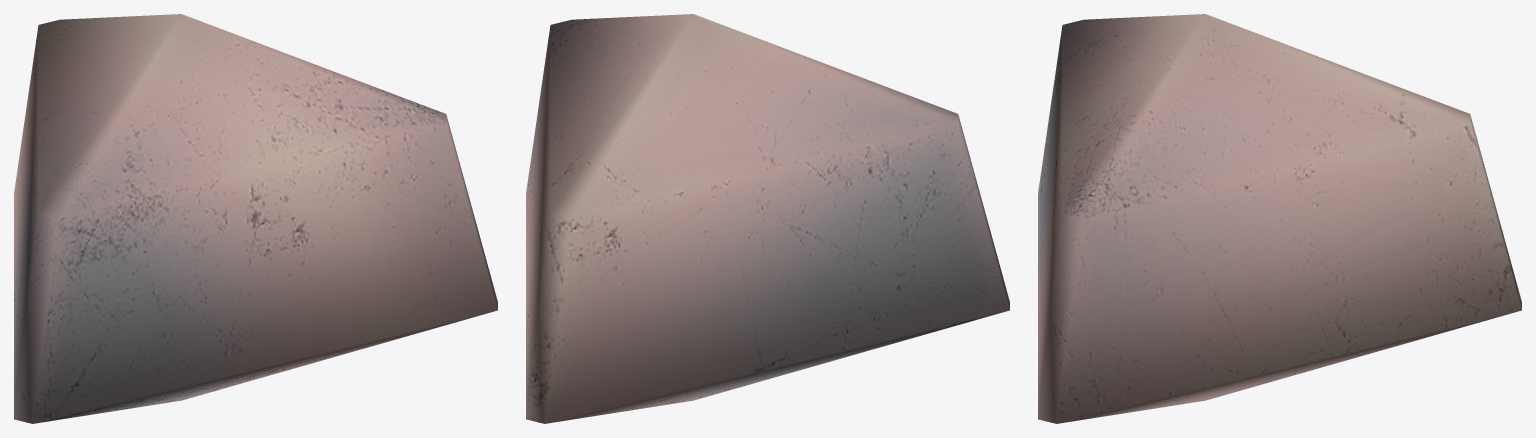
File: SM_RefinedMineral_4.fbx
3 views of the same model, side by side, from view 1: azimuth 30°, elevation 25°; view 2: azimuth 150°, elevation 25°; view 3: azimuth 270°, elevation 25° (orthographic).
Visible parts, largest first — view 1: SM_RefinedMineral_4; view 2: SM_RefinedMineral_4; view 3: SM_RefinedMineral_4.
Boxes of the visible parts, x1,y1,x2,y2 form: SM_RefinedMineral_4: [14, 14, 497, 423]; SM_RefinedMineral_4: [526, 14, 1009, 423]; SM_RefinedMineral_4: [1038, 14, 1521, 423].
Bounding box in the file's own units: 0.3113 × 0.2696 × 0.2378.
